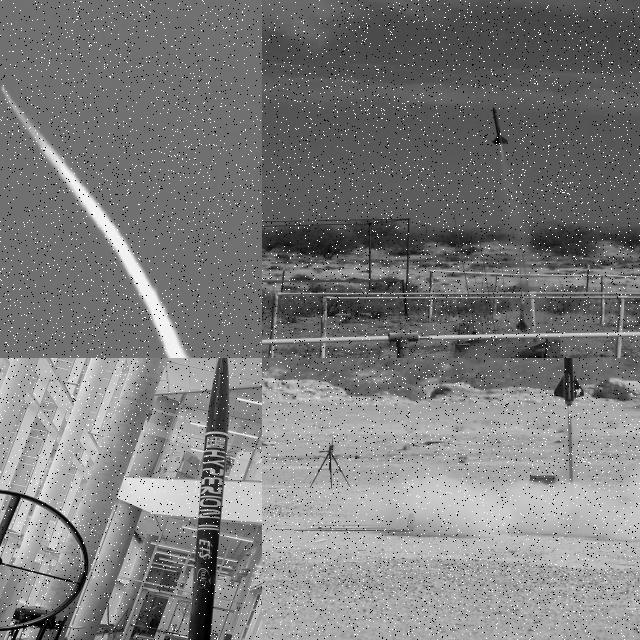Rocket: (187, 358, 229, 640), (551, 358, 584, 406), (492, 106, 509, 146), (516, 290, 529, 332), (2, 84, 7, 95)
